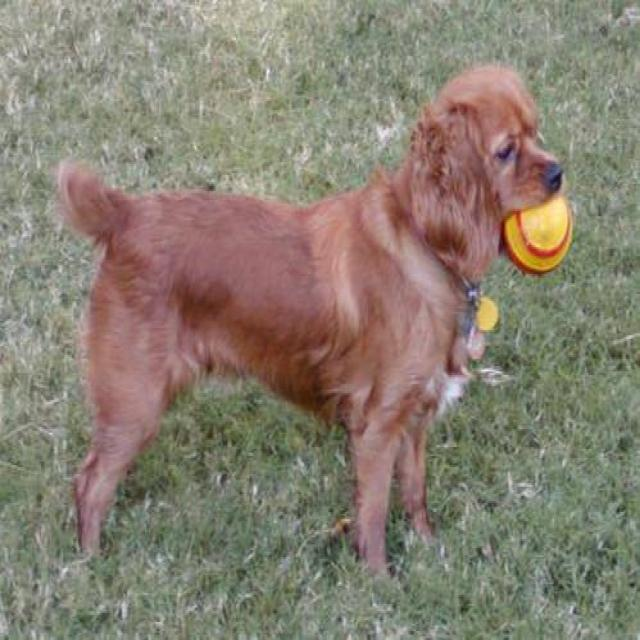dog: (54, 60, 564, 584)
